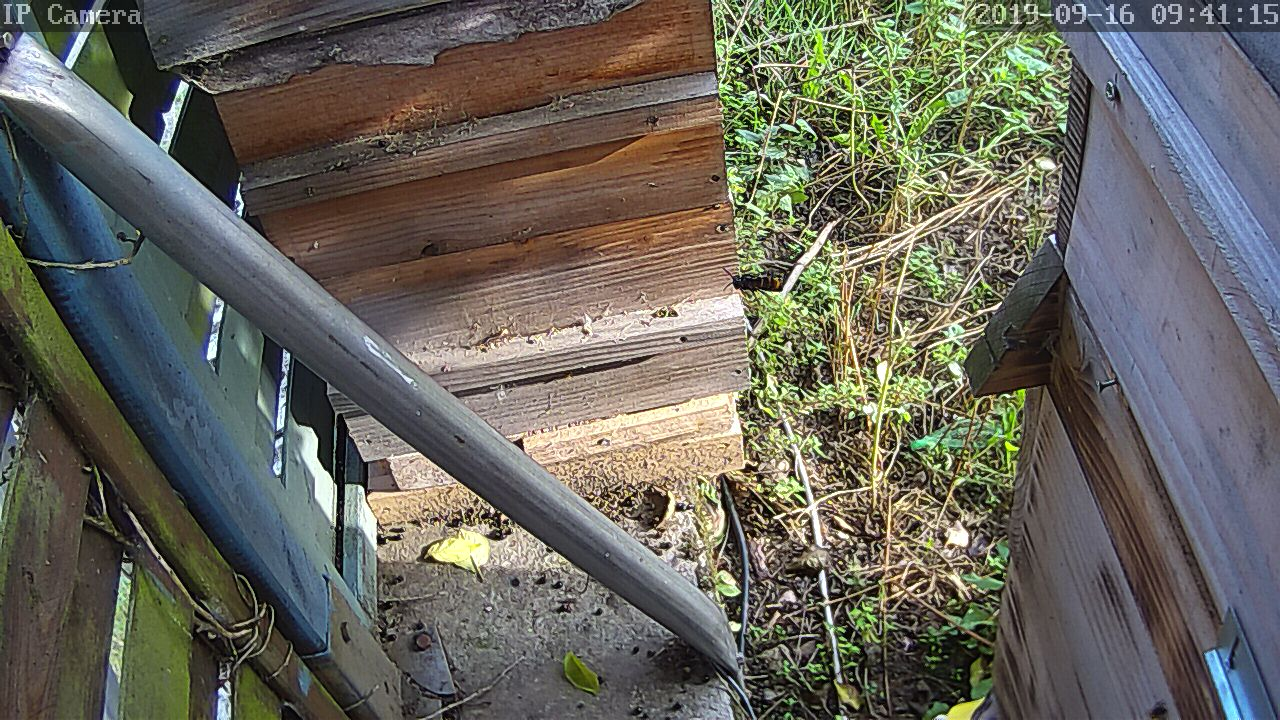bee: (614, 484, 677, 534)
hornet: (29, 0, 1183, 720)
